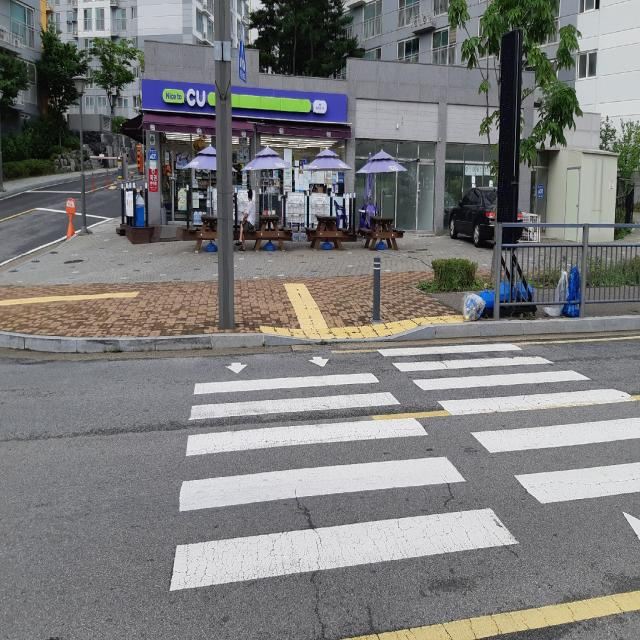횡단보도: (165, 333, 640, 598)
